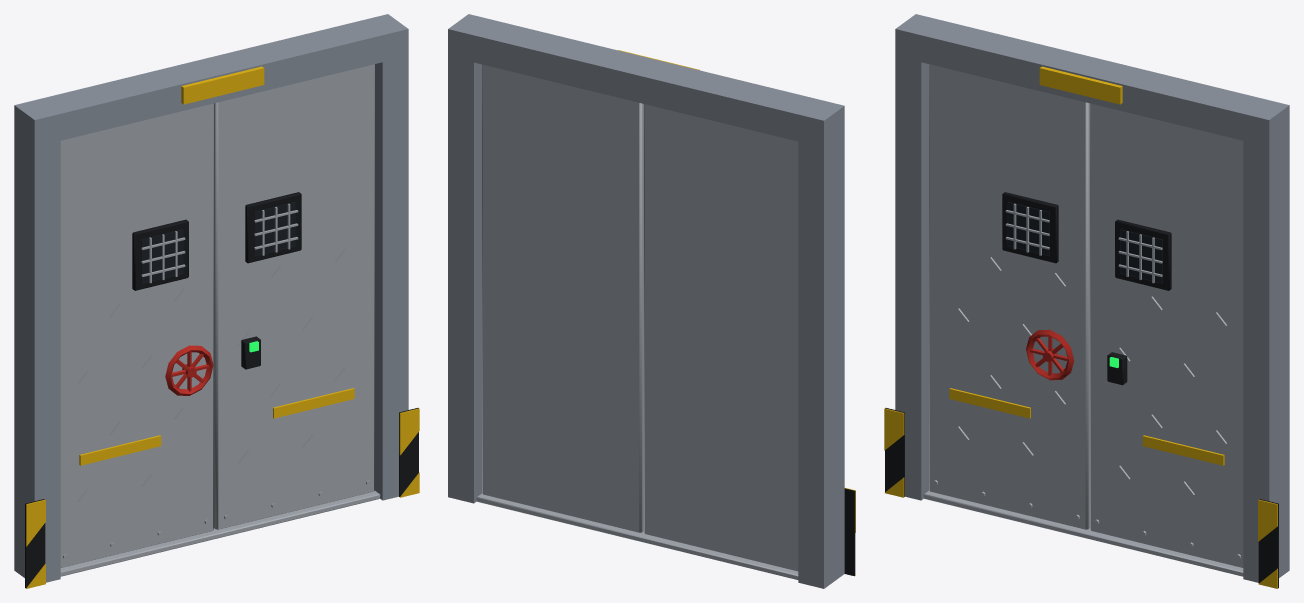
File: door_maintenance_hatch.glb
The picture shows the model from 3 angles, left to right: view 1: azimuth 30°, elevation 25°; view 2: azimuth 150°, elevation 25°; view 3: azimuth 330°, elevation 25°; orthographic projection.
Visible parts, largest first — view 1: leaf_r, leaf_l, body; view 2: leaf_r, leaf_l, body; view 3: leaf_l, leaf_r, body.
Boxes of the visible parts, left/top/right/bottom form: leaf_r: left=213, top=64, right=374, bottom=529; leaf_l: left=60, top=103, right=213, bottom=567; body: left=14, top=14, right=419, bottom=588; leaf_r: left=482, top=64, right=643, bottom=532; leaf_l: left=644, top=104, right=798, bottom=571; body: left=448, top=14, right=855, bottom=588; leaf_l: left=929, top=64, right=1090, bottom=529; leaf_r: left=1090, top=103, right=1243, bottom=567; body: left=884, top=14, right=1289, bottom=588.
Bounding box in the file's own units: 2.44 × 2.76 × 0.25.
